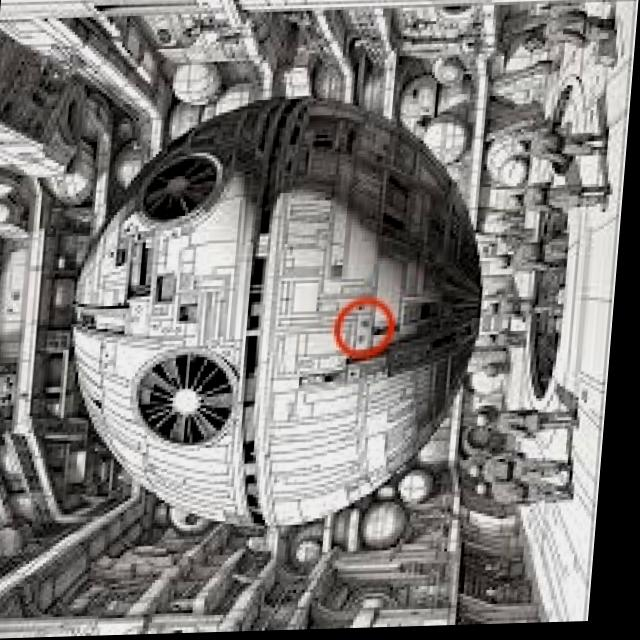deathStar: (67, 95, 497, 531)
